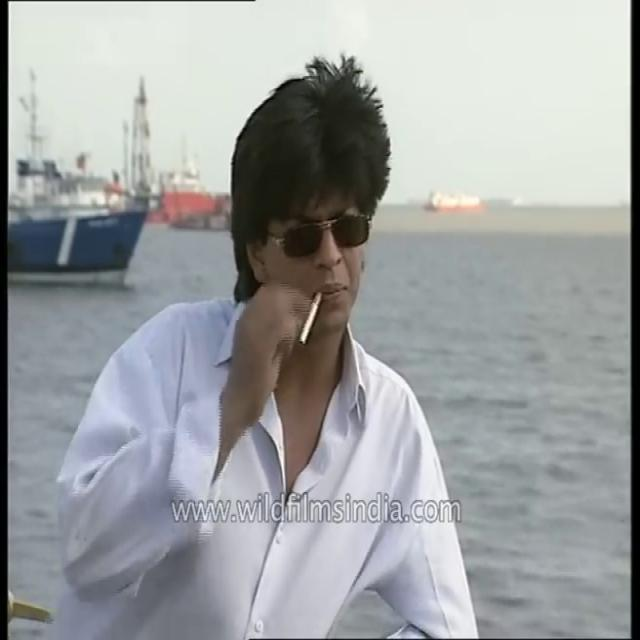Smooking: (296, 285, 326, 347)
